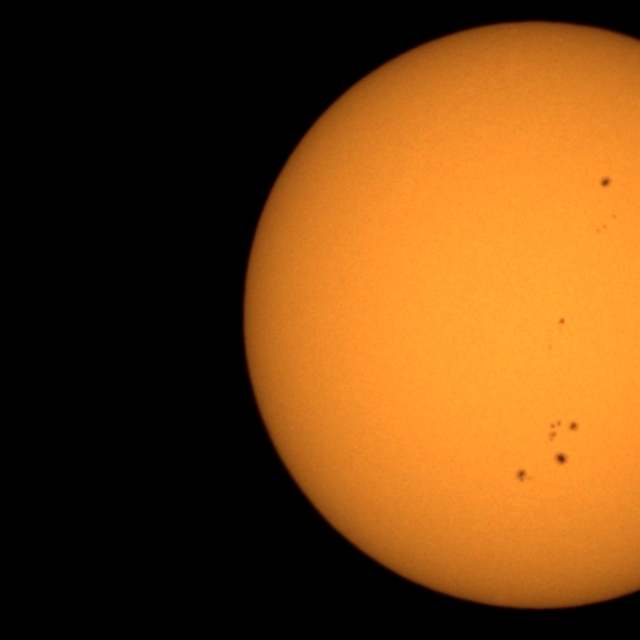sunspot: (548, 420, 561, 442), (515, 468, 531, 484), (553, 451, 569, 466), (594, 221, 610, 234), (599, 176, 612, 189), (568, 420, 579, 433), (557, 317, 566, 326), (547, 344, 554, 352), (612, 213, 618, 220)
